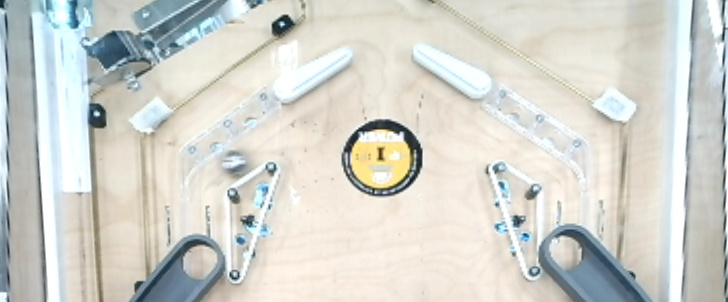ball: (218, 152, 253, 176)
flipper-left: (408, 41, 502, 105)
flipper-right: (272, 43, 358, 109)
